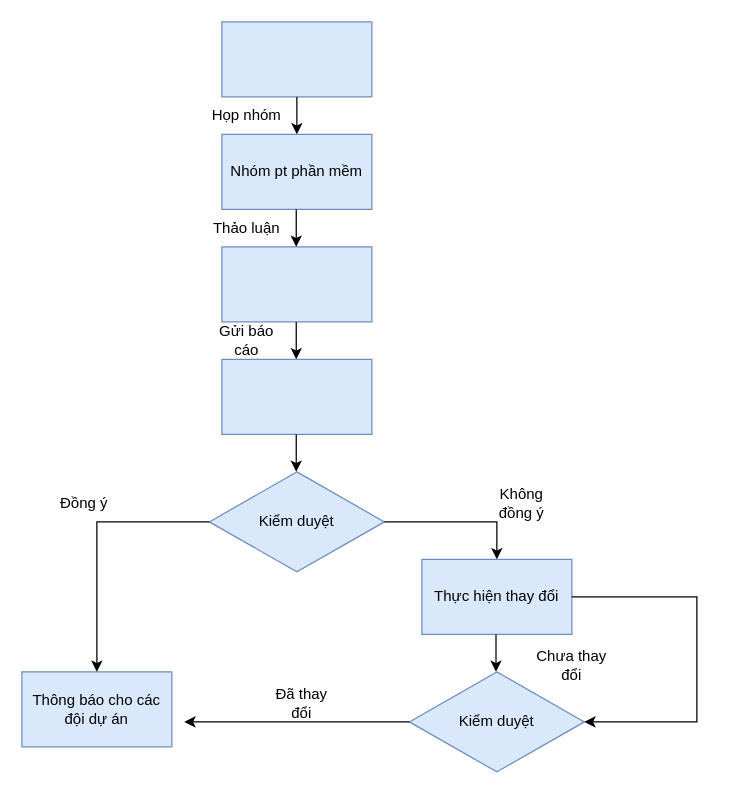
Some shapes in this 729 by 794 pixel diagram are drawn without their labels. Here are the shapes that lost their labels. From the top down, the centre of each, then its label:
the point at 296,59: Yêu cầu thay đổi
the point at 296,284: Thảo luận thay đổi
the point at 296,396: Giám đốc dự án
